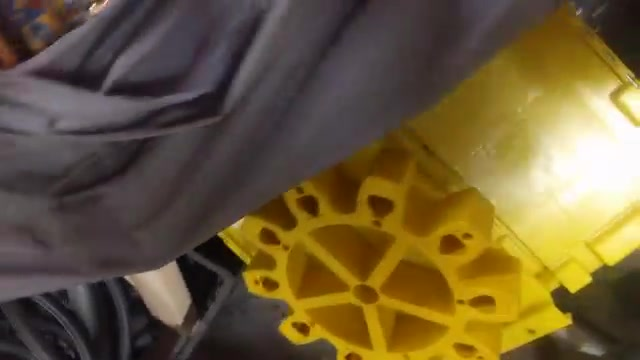gear: (199, 157, 545, 360)
